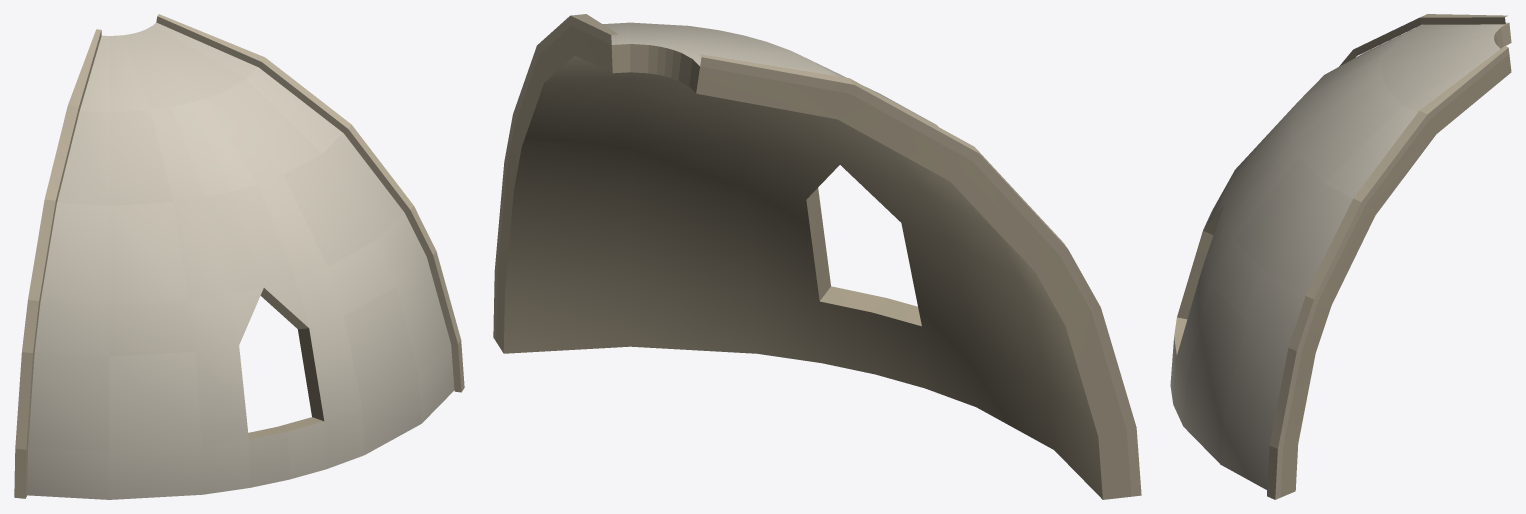
Rendered from dome.panel_4_window.plaster.glb.
3 renders of one model, left to right at view 1: azimuth 30°, elevation 25°; view 2: azimuth 150°, elevation 25°; view 3: azimuth 270°, elevation 25°, orthographic. The views are drawn at different scales.
Parts seen in each view (by area): view 1: dome_panel_4_window_plaster; view 2: dome_panel_4_window_plaster; view 3: dome_panel_4_window_plaster.
Boxes of the visible parts, left/top/right/bottom form: dome_panel_4_window_plaster: left=14, top=14, right=464, bottom=499; dome_panel_4_window_plaster: left=493, top=14, right=1141, bottom=499; dome_panel_4_window_plaster: left=1170, top=14, right=1511, bottom=499.
Size of what is drawn, in the model's own units: 5.05 by 3.63 by 3.18.
